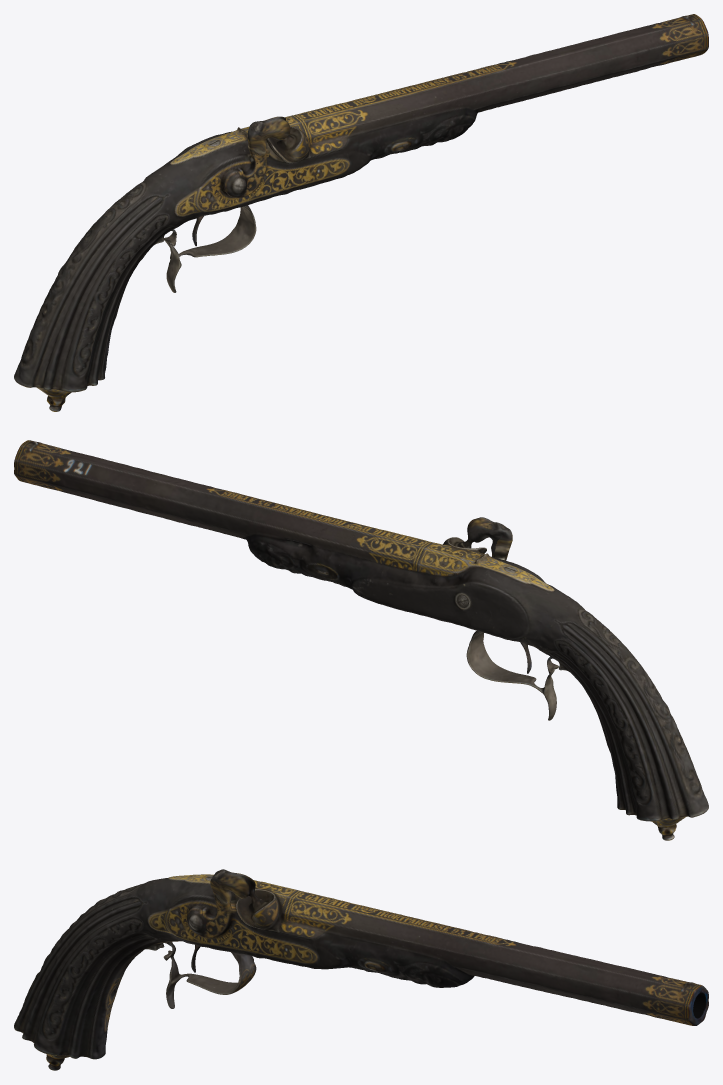
Rendered from Gun_921.gltf.
The picture shows the model from 3 angles, top to bottom: view 1: azimuth 30°, elevation 25°; view 2: azimuth 150°, elevation 25°; view 3: azimuth 330°, elevation 25°; orthographic projection.
Visible parts, largest first — view 1: Group47060.001; view 2: Group47060.001; view 3: Group47060.001.
Boxes of the visible parts, box(x1,y1,x2,y2) form: Group47060.001: box(14, 14, 708, 411); Group47060.001: box(14, 440, 708, 840); Group47060.001: box(14, 869, 708, 1070).
Size of the model in its own units: 0.469 by 0.1693 by 0.0483.
Materials: 1 (1 with a texture image).
